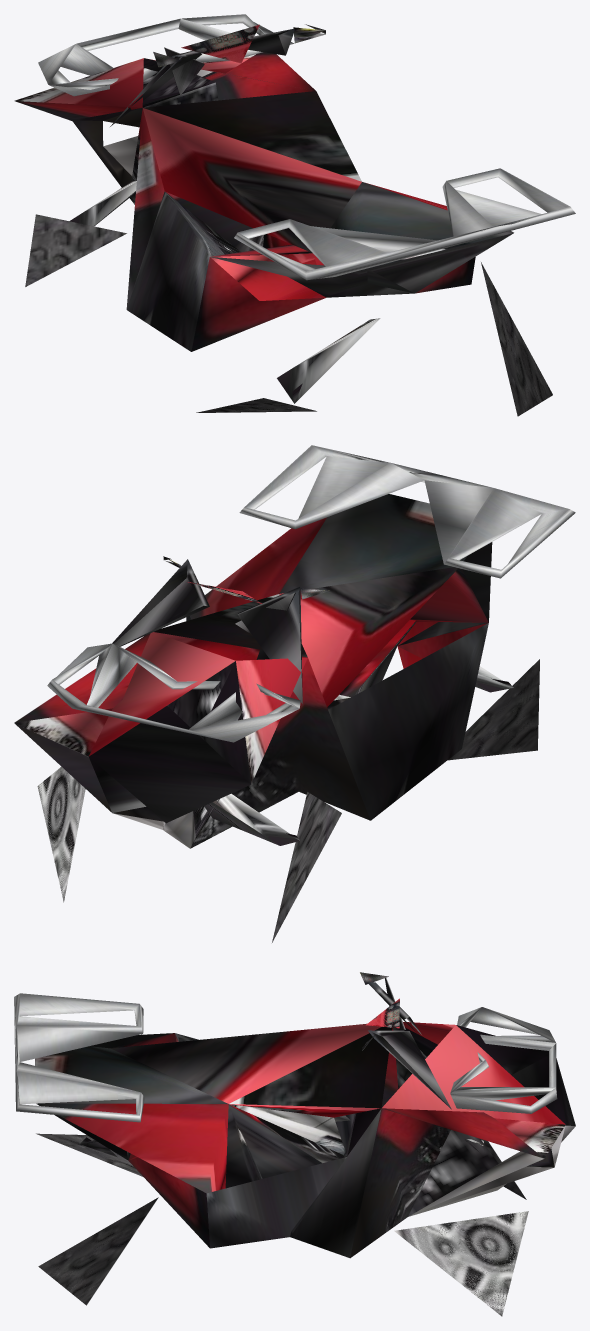
The model's file is ATV0.0.glb.
The picture shows the model from 3 angles, top to bottom: view 1: azimuth 30°, elevation 25°; view 2: azimuth 150°, elevation 25°; view 3: azimuth 270°, elevation 25°; orthographic projection. The views are drawn at different scales.
Visible parts, largest first — view 1: ATV; view 2: ATV; view 3: ATV.
Boxes of the visible parts, bbox=[...] form: ATV: bbox=[14, 14, 575, 416]; ATV: bbox=[14, 445, 575, 942]; ATV: bbox=[14, 972, 575, 1316].
Bounding box in the file's own units: 1.48 × 1.35 × 2.55.
Materials: 1 (1 with a texture image).
